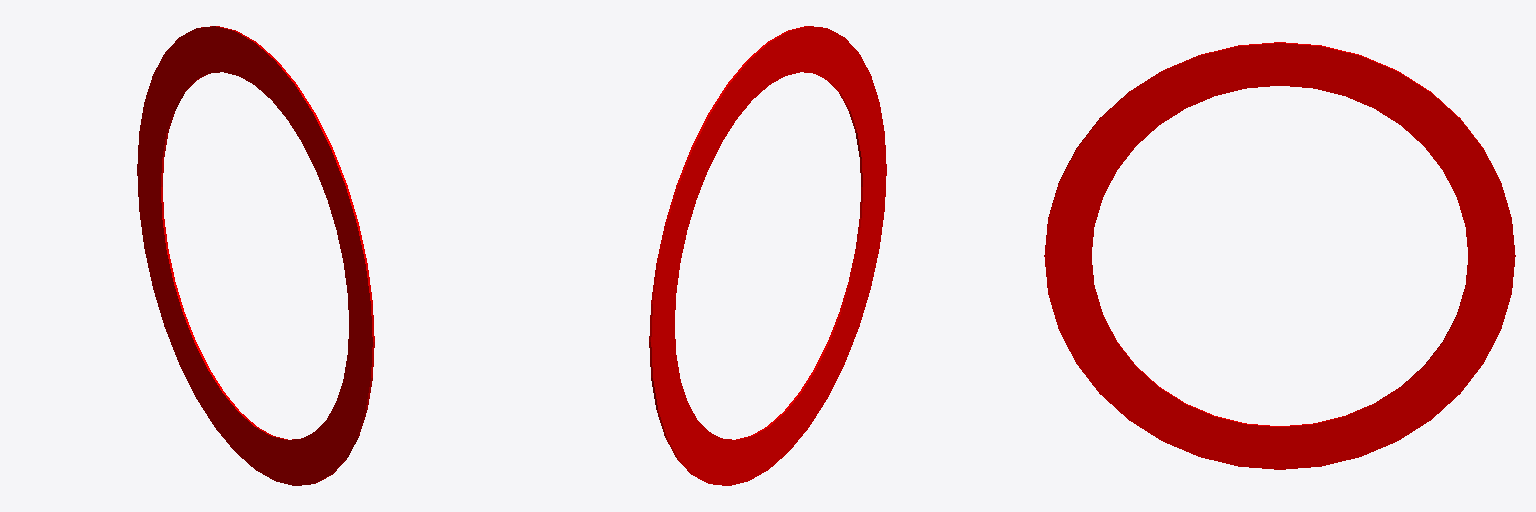
Rendered from AxisHandleX.obj.
3 renders of one model, left to right at view 1: azimuth 30°, elevation 25°; view 2: azimuth 150°, elevation 25°; view 3: azimuth 270°, elevation 25°, orthographic.
Visible parts, largest first — view 1: AxisHandleX; view 2: AxisHandleX; view 3: AxisHandleX.
Part boxes in pixels (x1,y1,x2,y2): AxisHandleX: (137,26,374,485); AxisHandleX: (649,26,886,485); AxisHandleX: (1044,42,1515,469).
Bounding box in the file's own units: 0.1 × 20 × 20.